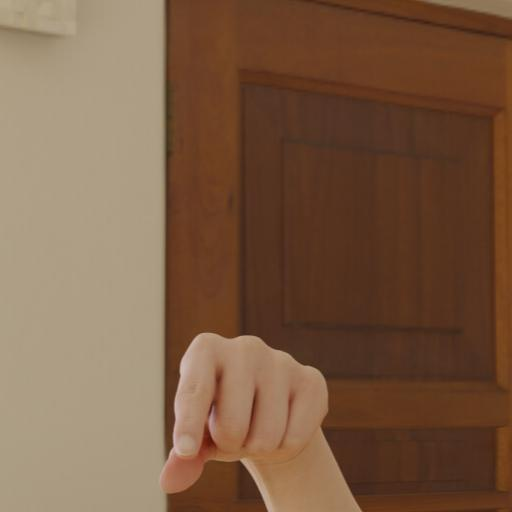Q: (142, 304, 344, 508)
